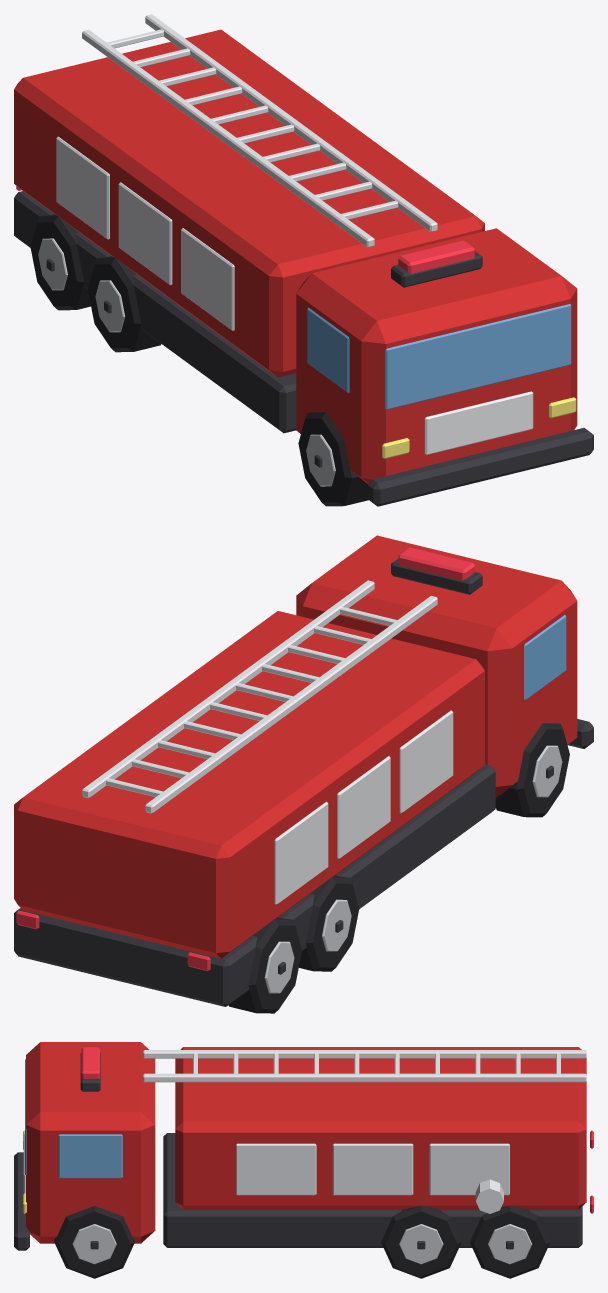
File: FireTruck.fbx
3 views of the same model, one above another, from view 1: azimuth 30°, elevation 25°; view 2: azimuth 150°, elevation 25°; view 3: azimuth 270°, elevation 25° (orthographic). The views are drawn at different scales.
Parts seen in each view (by area): view 1: FireTruck, FireTruck_WheelFR, FireTruck_WheelMR, FireTruck_WheelBR; view 2: FireTruck, FireTruck_WheelFR, FireTruck_WheelBR, FireTruck_WheelMR; view 3: FireTruck, FireTruck_WheelML, FireTruck_WheelBL, FireTruck_WheelFL.
Part boxes in pixels (x1=…): FireTruck: x1=14, y1=14, x2=593, y2=506; FireTruck_WheelFR: x1=298, y1=412, x2=368, y2=506; FireTruck_WheelMR: x1=87, y1=256, x2=161, y2=352; FireTruck_WheelBR: x1=30, y1=214, x2=90, y2=310; FireTruck: x1=14, y1=535, x2=593, y2=1006; FireTruck_WheelFR: x1=495, y1=723, x2=569, y2=817; FireTruck_WheelBR: x1=228, y1=917, x2=301, y2=1013; FireTruck_WheelMR: x1=299, y1=875, x2=359, y2=971; FireTruck: x1=14, y1=1042, x2=593, y2=1250; FireTruck_WheelML: x1=381, y1=1205, x2=461, y2=1278; FireTruck_WheelBL: x1=470, y1=1205, x2=550, y2=1278; FireTruck_WheelFL: x1=54, y1=1205, x2=134, y2=1278.
Bounding box in the file's own units: 5.61 × 4.89 × 14.38.
Materials: 1 (1 with a texture image).
